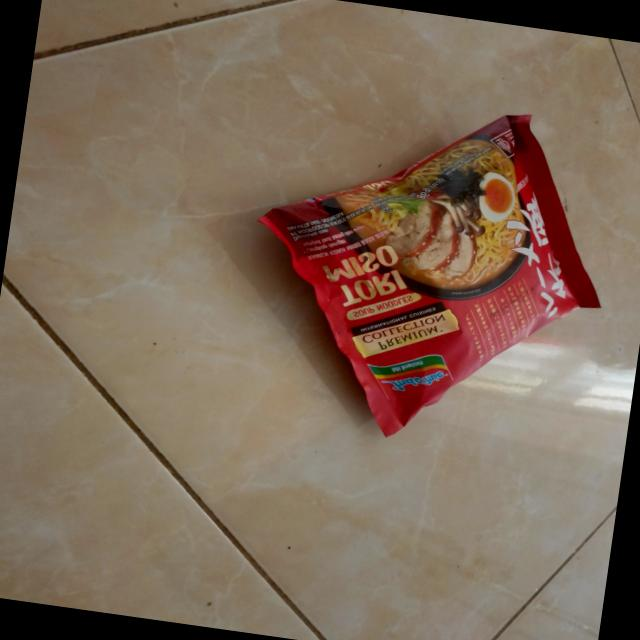indomie-tori-miso: (225, 79, 630, 466)
